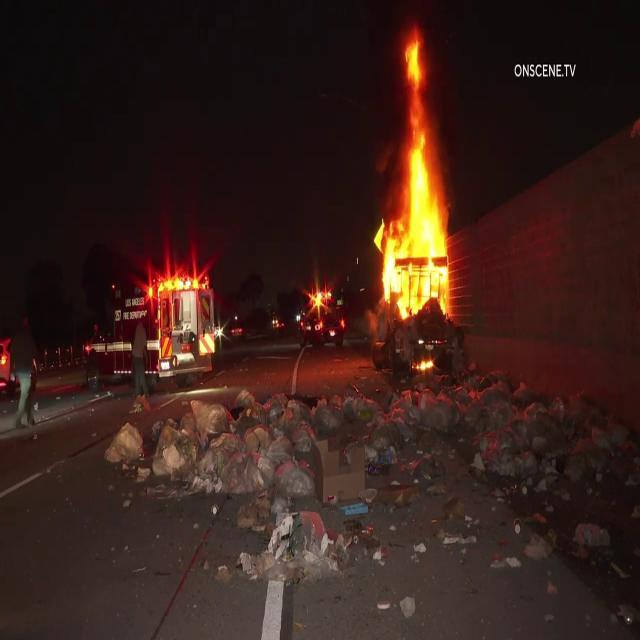Fire: (365, 32, 463, 324)
